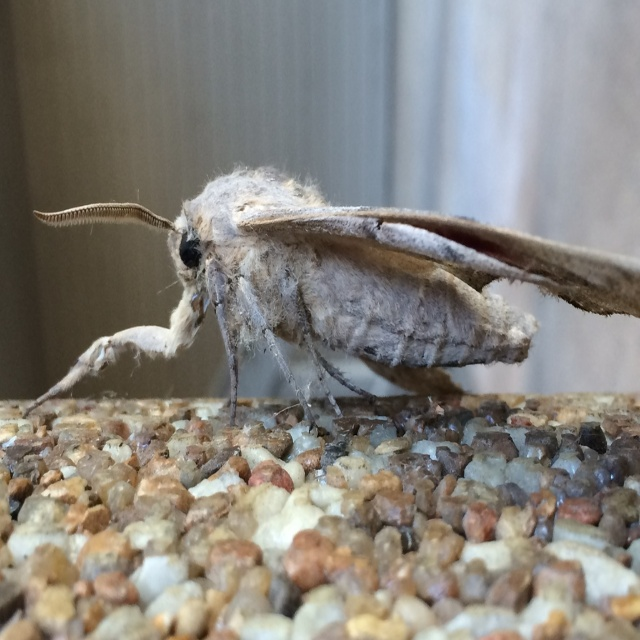Moths and butterflies: (17, 160, 640, 451)
